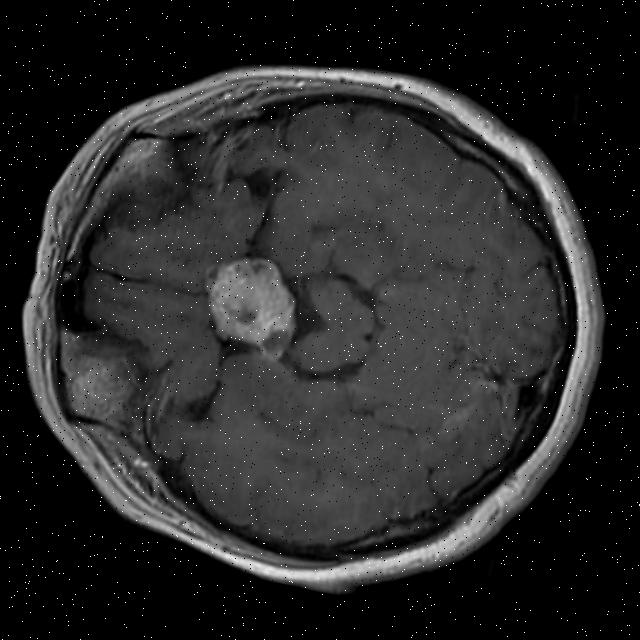Pituitary: (197, 247, 309, 365)
